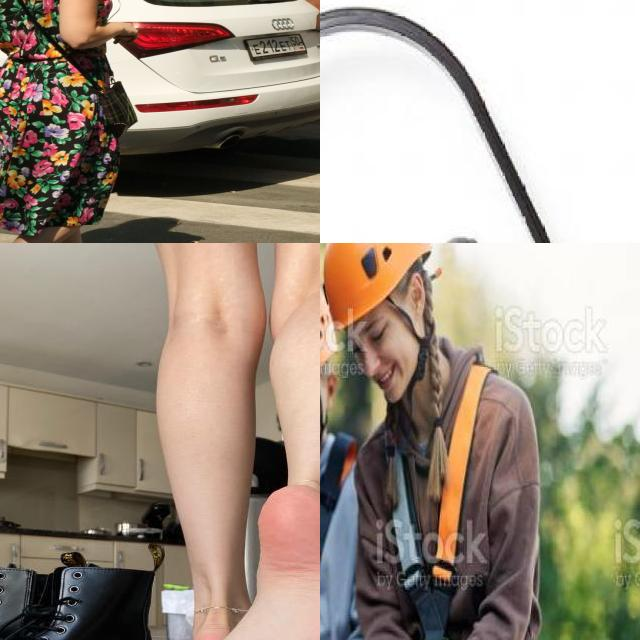Barefoots: (202, 479, 320, 640)
Ear-protection: (320, 0, 561, 243)
Harness: (393, 361, 491, 640), (320, 433, 357, 563)
